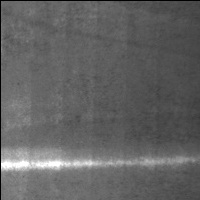scratches: (1, 147, 199, 174)
